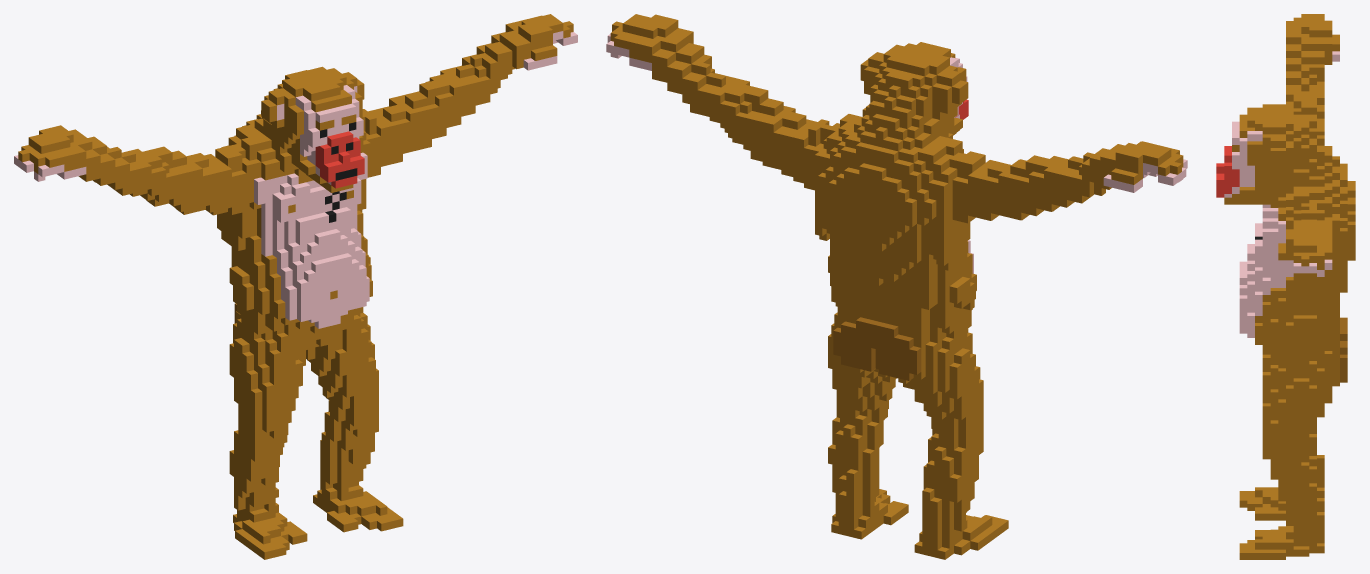
Rendered from Breathing.gltf.
The picture shows the model from 3 angles, left to right: view 1: azimuth 30°, elevation 25°; view 2: azimuth 150°, elevation 25°; view 3: azimuth 270°, elevation 25°; orthographic projection. The views are drawn at different scales.
Visible parts, largest first — view 1: unamed; view 2: unamed; view 3: unamed.
Boxes of the visible parts, box(x1,y1,x2,y2) form: unamed: box(14, 14, 577, 559); unamed: box(606, 14, 1187, 559); unamed: box(1216, 14, 1355, 559).
Bounding box in the file's own units: 7.5 × 5.9 × 1.8.
Materials: 1 (1 with a texture image).
